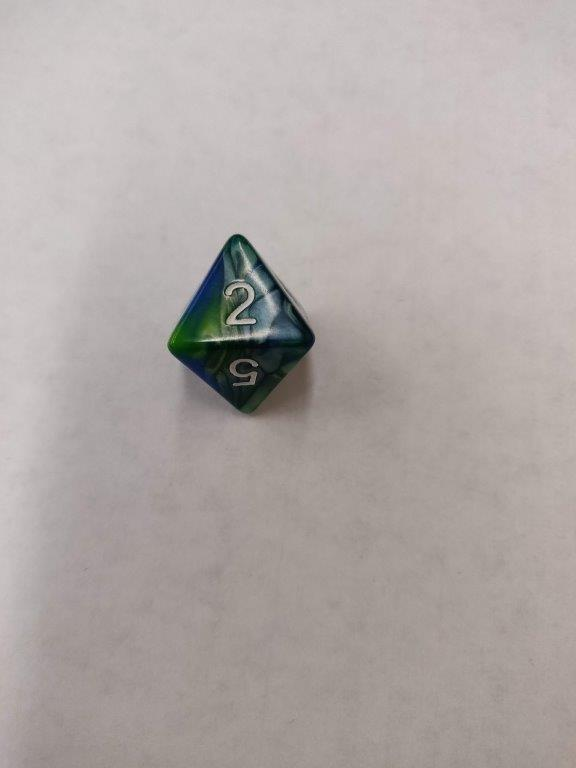d8-2: (166, 233, 315, 413)
